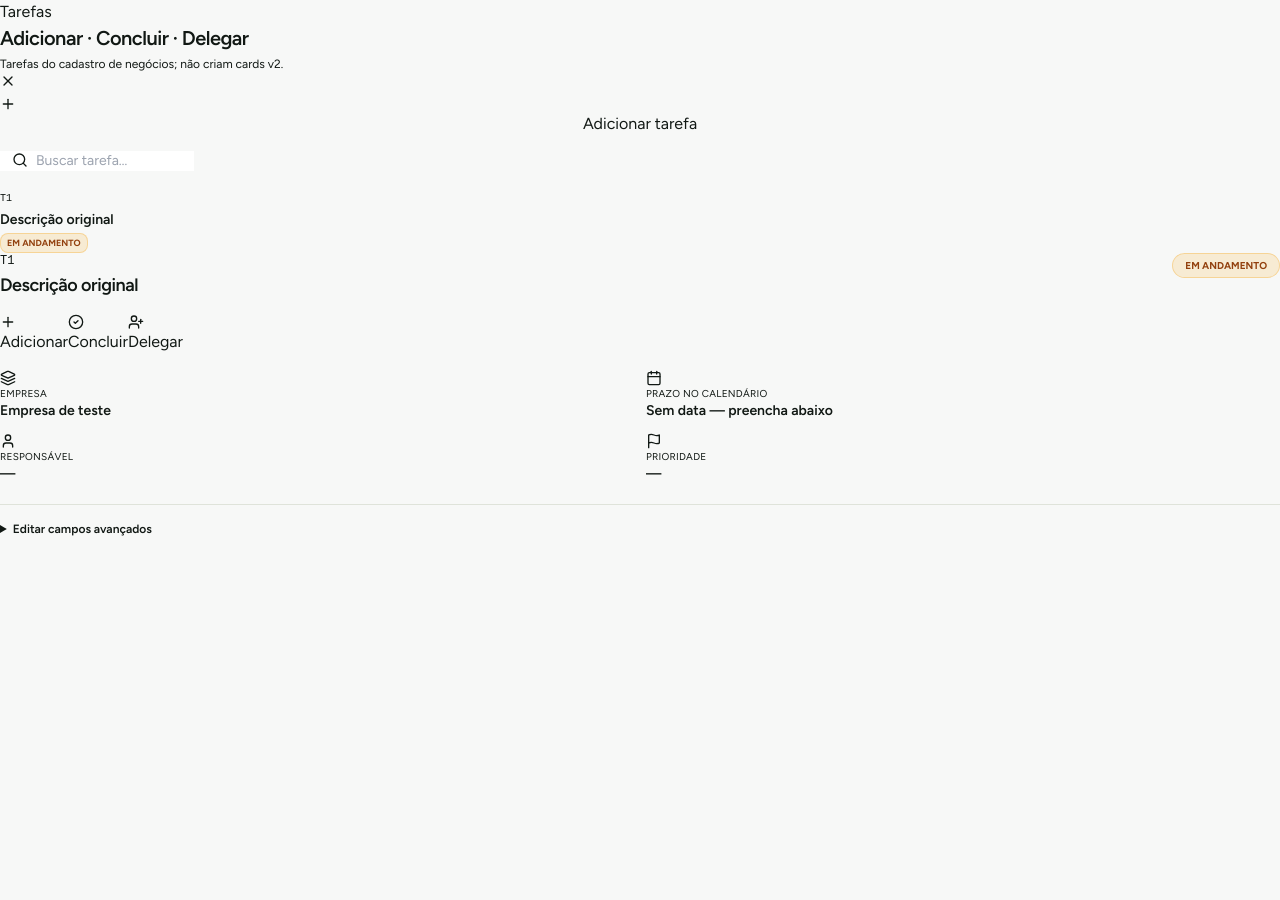
Test: Rascunho do modal com concorrência › mostra o conflito e conserva o texto sem reler ou repetir a escrita
Click the heading "Editar campos avançados": (82, 529) [13,522,152,536]
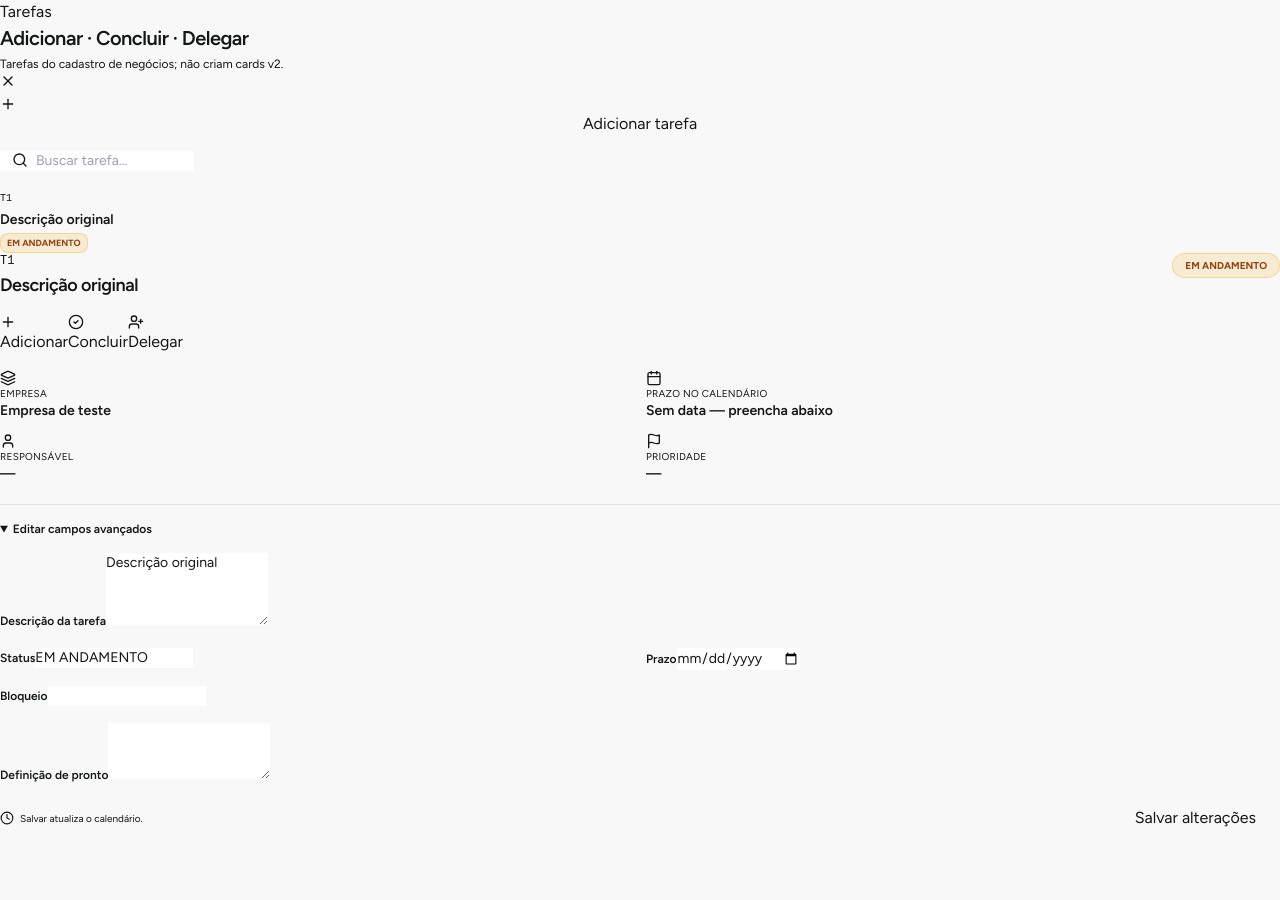
Replace the text in the text box showing "Descrição original" next to "Descrição da tarefa" with "Meu texto ainda não salvo": (187, 589) [106,553,268,625]
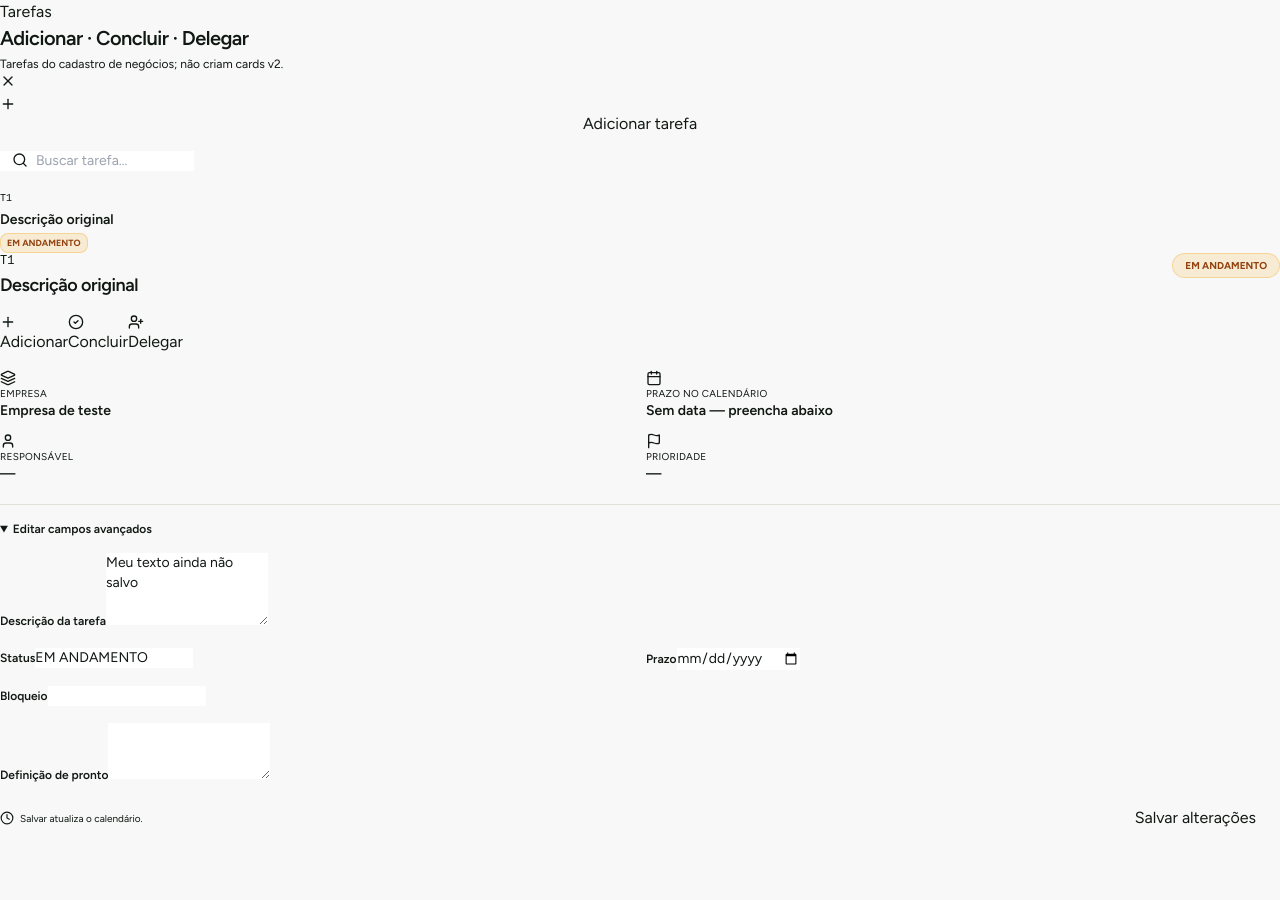
Click the button "Salvar alterações": (1195, 818) [1111,806,1279,830]
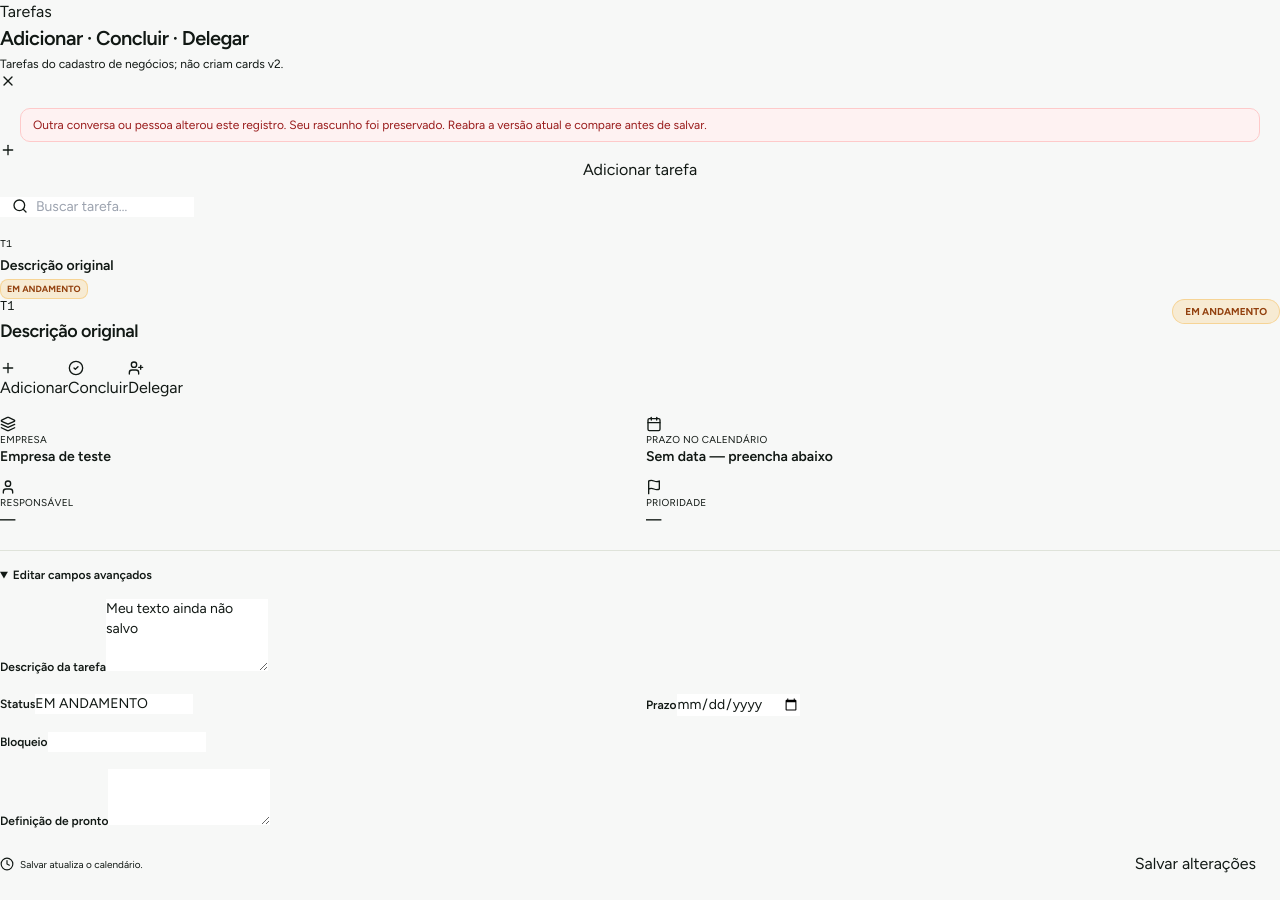
Check: the message shows "Outra conversa ou pessoa alterou este registro. Seu rascunho foi preservado. Reabra a versão atual e compare antes de salvar.", box [33,118,707,132]
